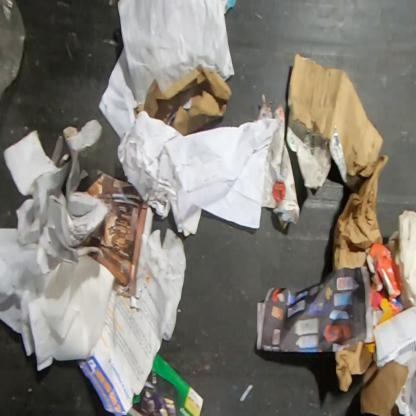cardboard: (3, 118, 110, 265), (287, 51, 385, 189), (135, 62, 234, 137), (285, 113, 332, 190), (384, 209, 415, 311), (358, 356, 411, 415), (366, 242, 404, 324)
soft_plastic: (0, 0, 28, 97)
